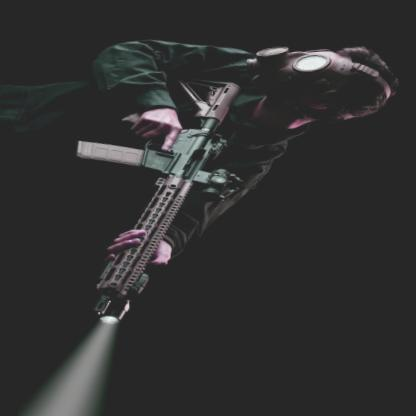rifle: (38, 70, 281, 334)
